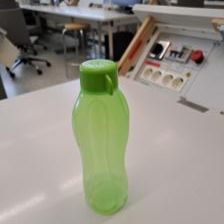bottle: (71, 55, 135, 215)
